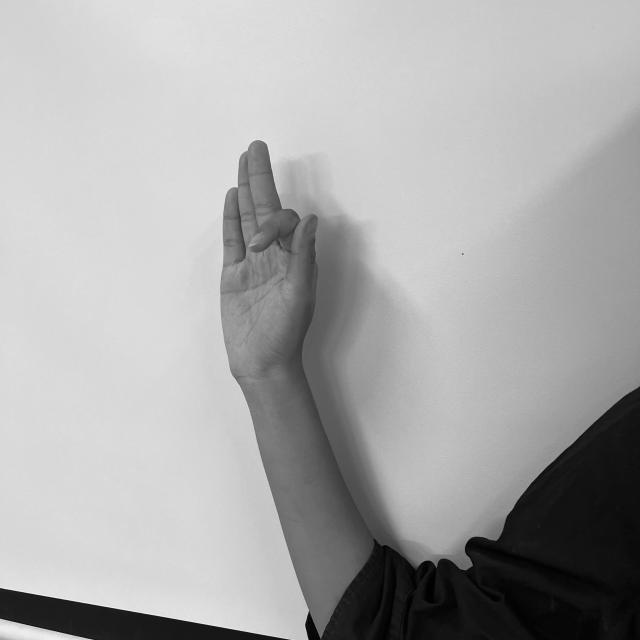Letra F: (215, 134, 324, 385)
